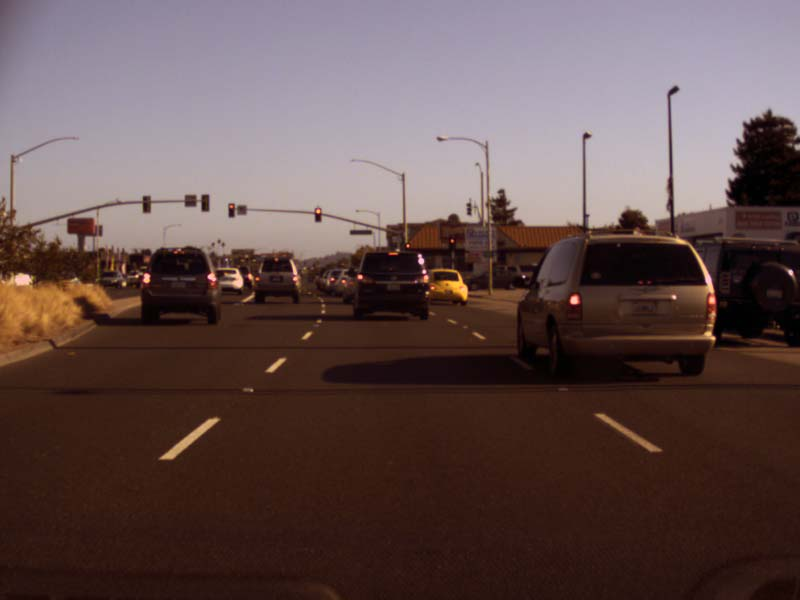Red: (313, 207, 321, 222), (227, 203, 234, 218), (449, 237, 455, 251), (404, 243, 410, 255)
